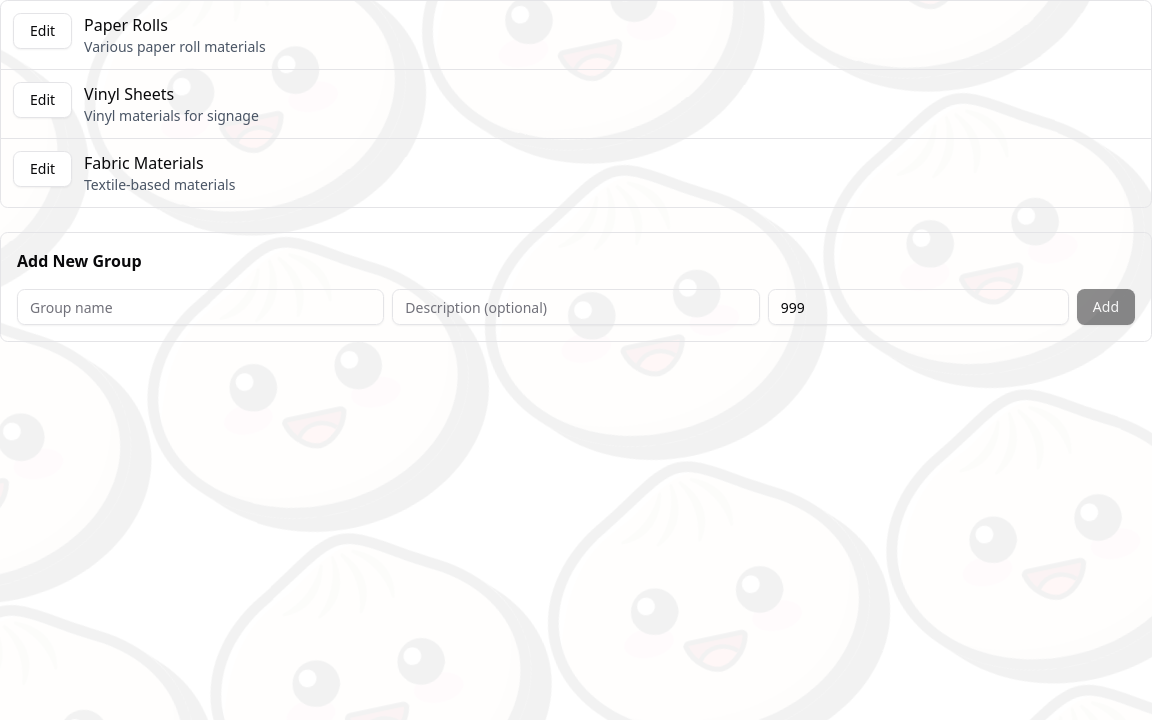
Test: GroupManager › Edit Group › closes edit panel when close button is clicked
Click the button "Edit" next to "Paper Rolls" at (43, 31), box top-left (13, 13), bottom-right (72, 49)
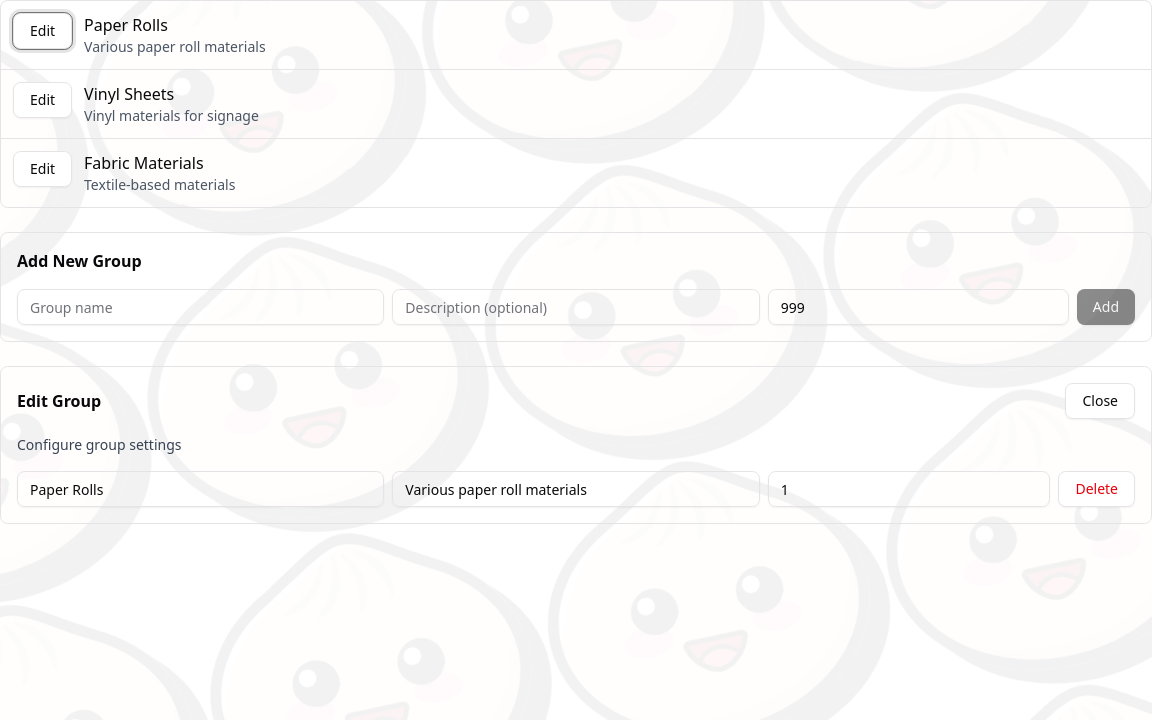
Check: the heading "Edit Group" is shown, box top-left (17, 389), bottom-right (101, 413)
Click the button "Close" at (1100, 401), box top-left (1066, 383), bottom-right (1135, 419)
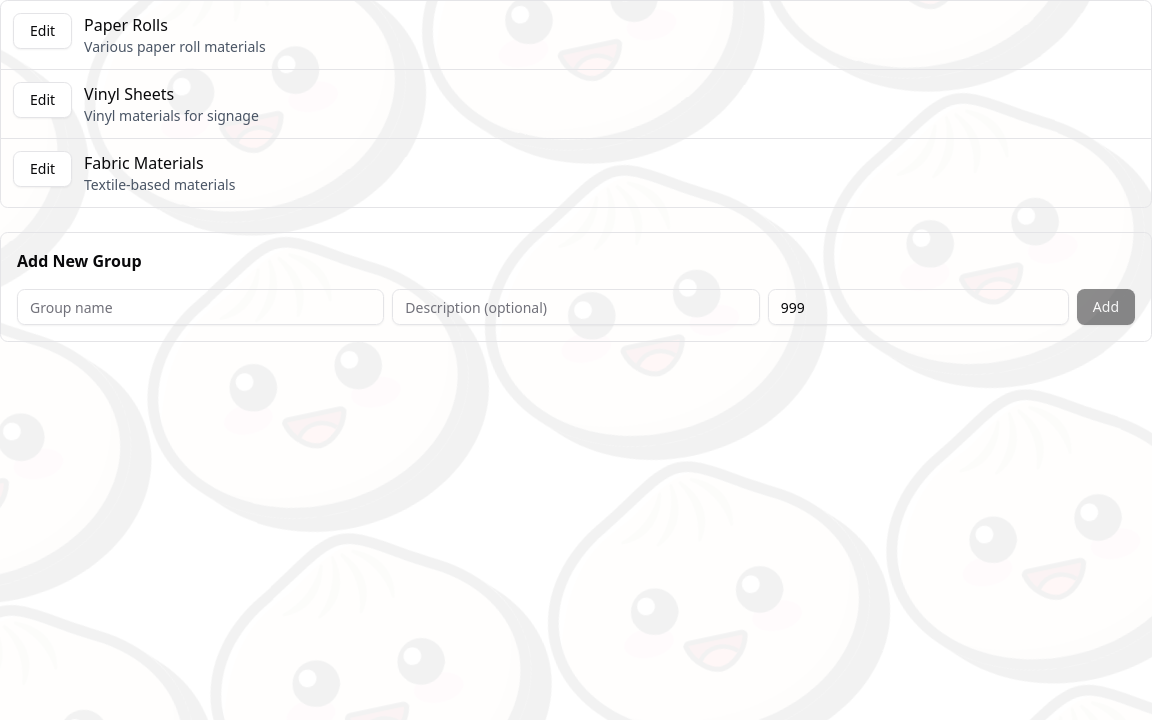
Check: the heading "Edit Group" is gone
